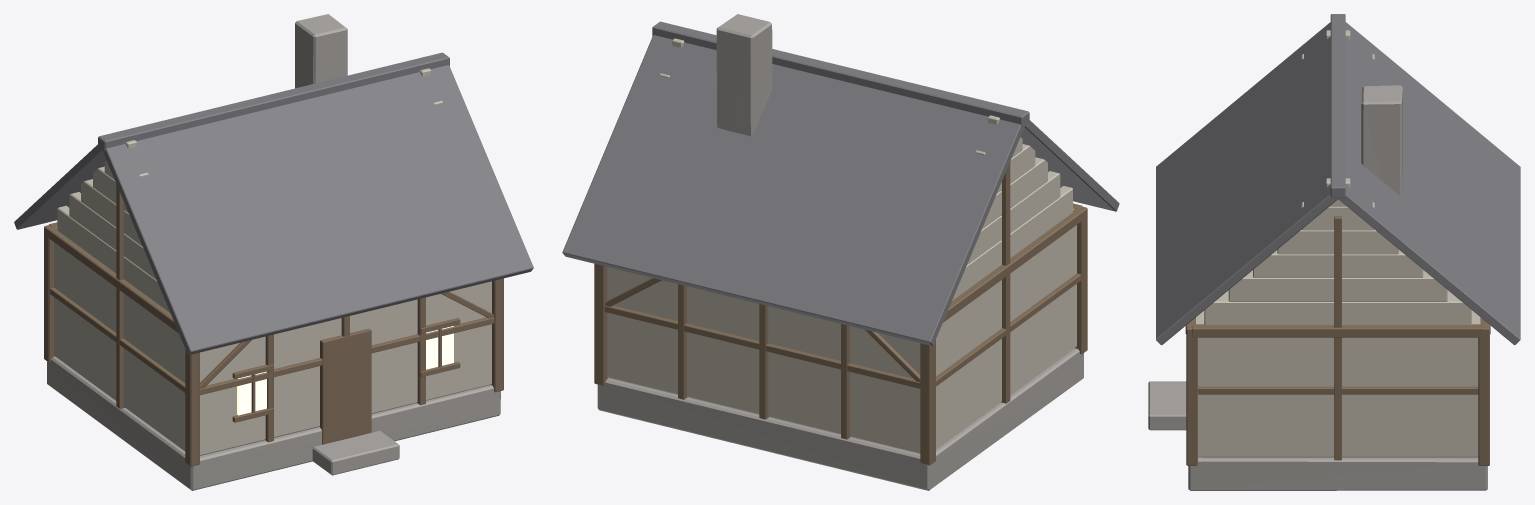
The model's file is house_a.glb.
The picture shows the model from 3 angles, left to right: view 1: azimuth 30°, elevation 25°; view 2: azimuth 150°, elevation 25°; view 3: azimuth 270°, elevation 25°; orthographic projection. The views are drawn at different scales.
Visible parts, largest first — view 1: roof, plaster, wood, stone, glow; view 2: roof, plaster, stone, wood; view 3: roof, plaster, stone, wood.
Part boxes in pixels (x1=…): roof: x1=14, y1=52, x2=533, y2=354; plaster: x1=54, y1=68, x2=491, y2=455; wood: x1=44, y1=184, x2=503, y2=466; stone: x1=47, y1=14, x2=500, y2=490; glow: x1=237, y1=326, x2=453, y2=415; roof: x1=562, y1=21, x2=1119, y2=345; plaster: x1=607, y1=38, x2=1076, y2=453; stone: x1=597, y1=14, x2=1083, y2=490; wood: x1=594, y1=162, x2=1087, y2=465; roof: x1=1156, y1=14, x2=1520, y2=344; plaster: x1=1196, y1=30, x2=1480, y2=457; stone: x1=1148, y1=85, x2=1487, y2=490; wood: x1=1185, y1=216, x2=1490, y2=465.
Bounding box in the file's own units: 7.04 × 6.72 × 6.37.
